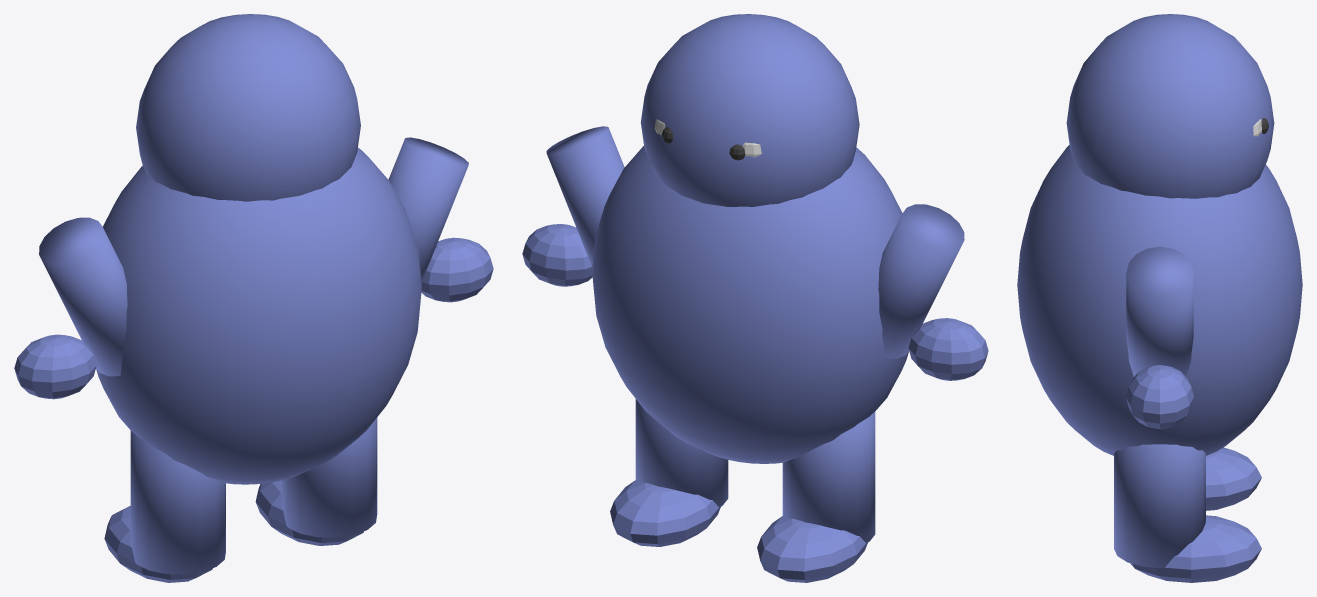
The model's file is genderuwo.fbx.
3 views of the same model, side by side, from view 1: azimuth 30°, elevation 25°; view 2: azimuth 150°, elevation 25°; view 3: azimuth 270°, elevation 25° (orthographic). The views are drawn at different scales.
Visible parts, largest first — view 1: Body, Head, Leg_Left, Arm_Left, Leg_Right, Arm_Right, Hand_Left, Hand_Right, Foot_Left, Foot_Right; view 2: Body, Head, Arm_Left, Leg_Left, Arm_Right, Leg_Right, Foot_Left, Foot_Right, Hand_Left, Hand_Right; view 3: Body, Head, Leg_Right, Arm_Right, Foot_Right, Hand_Right, Foot_Left.
Part boxes in pixels (<box>): Body: <box>96,148,421,484</box>; Head: <box>136,14,360,201</box>; Leg_Left: <box>130,430,225,574</box>; Arm_Left: <box>39,217,127,376</box>; Leg_Right: <box>282,417,377,537</box>; Arm_Right: <box>388,137,468,281</box>; Hand_Left: <box>14,334,96,399</box>; Hand_Right: <box>421,237,493,302</box>; Foot_Left: <box>104,506,212,582</box>; Foot_Right: <box>255,480,363,545</box>; Body: <box>592,146,908,463</box>; Head: <box>640,14,859,206</box>; Arm_Left: <box>878,204,964,358</box>; Leg_Left: <box>782,411,875,543</box>; Arm_Right: <box>546,126,624,266</box>; Leg_Right: <box>635,399,728,507</box>; Foot_Left: <box>757,515,867,582</box>; Foot_Right: <box>610,480,720,546</box>; Hand_Left: <box>908,318,988,380</box>; Hand_Right: <box>522,224,592,286</box>; Body: <box>1017,145,1302,455</box>; Head: <box>1066,14,1274,198</box>; Leg_Right: <box>1114,444,1205,567</box>; Arm_Right: <box>1126,246,1193,376</box>; Foot_Right: <box>1130,515,1261,582</box>; Hand_Right: <box>1126,365,1193,428</box>; Foot_Left: <box>1206,447,1261,510</box>.
Size of the model in its own units: 250 by 272 by 136.
